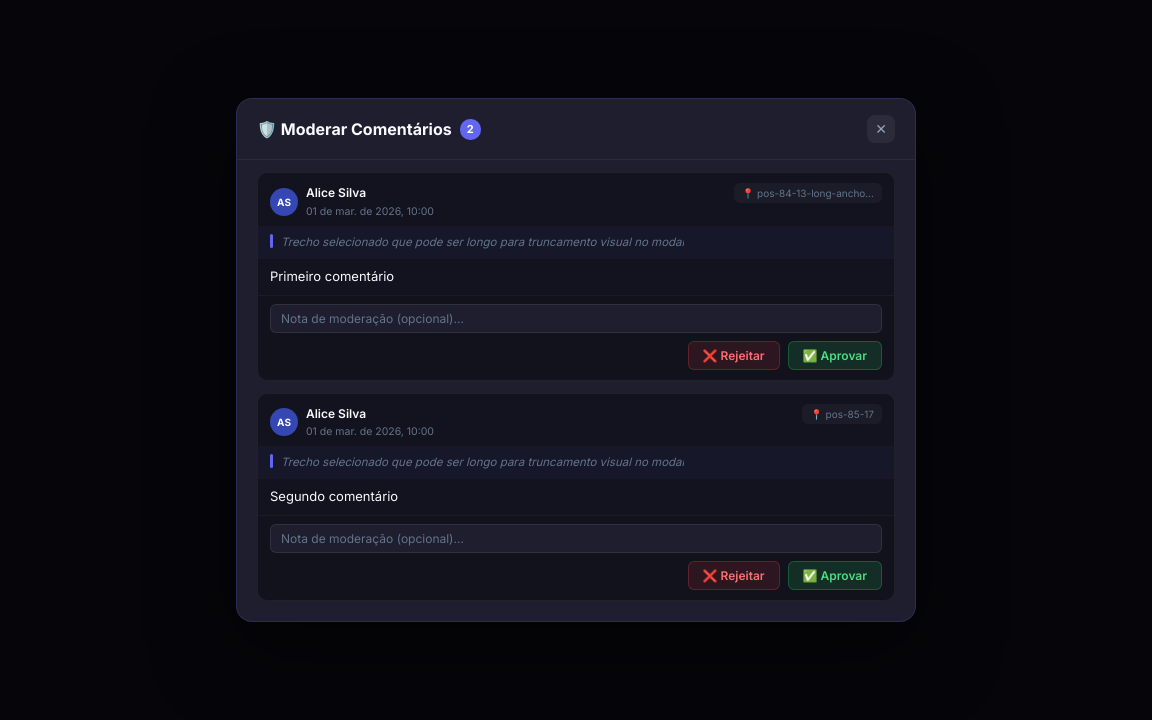
Test: AdminCommentModal moderation flows › rejects comments and keeps the remaining queue length in sync
The image size is (1152, 720).
Expected: the text "Primeiro comentário" is shown, x1=270 y1=268 x2=394 y2=284
Expected: the text "2" is shown, x1=460 y1=118 x2=481 y2=140
What coordinates should you click on to do the following:
click the button "❌ Rejeitar" below "pos-84-13-long-ancho…"
I would click on:
 (734, 355)
Its box is x1=688 y1=340 x2=780 y2=370.
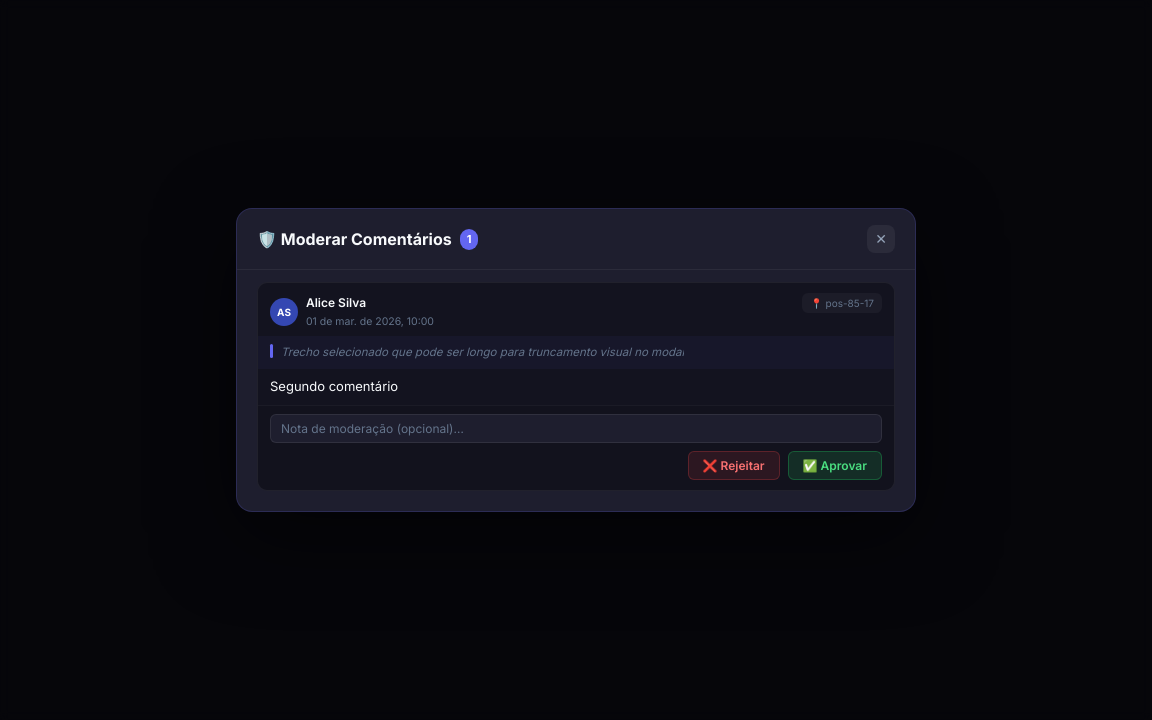
Expected: the text "1" is shown, x1=460 y1=229 x2=478 y2=250
Now the text "Primeiro comentário" is gone
